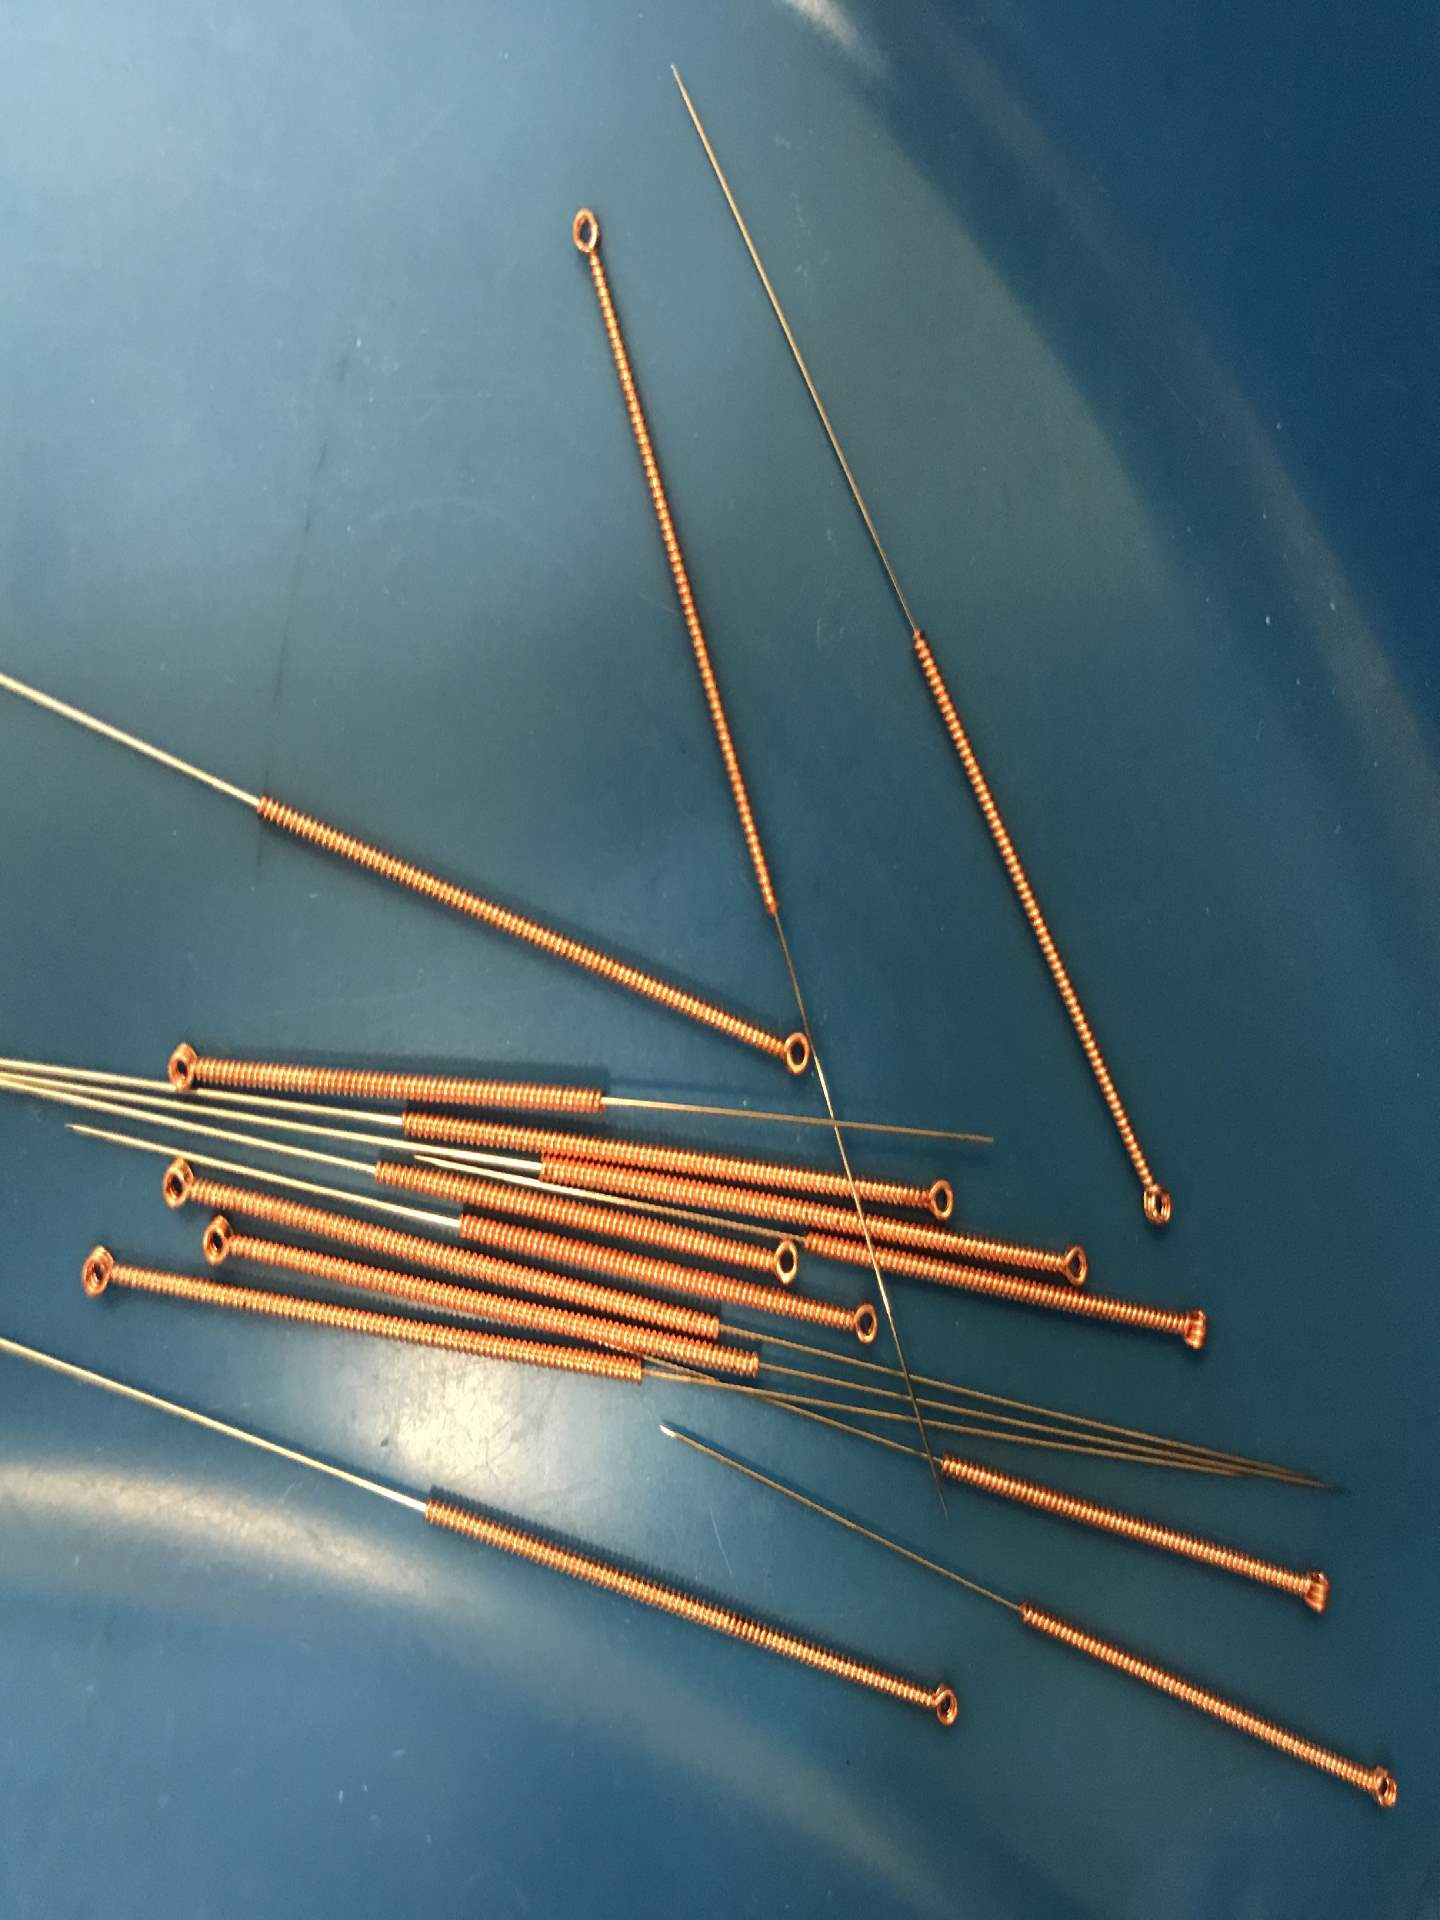needle: (552, 190, 619, 283), (905, 1665, 976, 1745), (1154, 1290, 1227, 1367), (67, 1237, 139, 1311), (1283, 1550, 1343, 1628), (1352, 1749, 1413, 1826), (154, 1036, 221, 1104), (753, 1016, 817, 1085), (827, 1293, 889, 1359), (1128, 1164, 1178, 1243), (148, 1155, 212, 1215), (186, 1214, 253, 1271), (903, 1170, 968, 1225), (753, 1231, 802, 1290), (1047, 1237, 1097, 1293)
